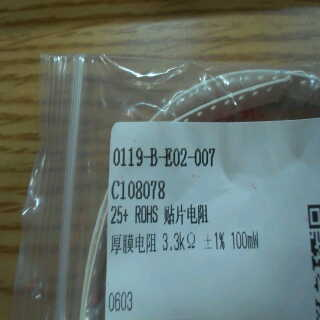3.3kO: (158, 228, 200, 257)
